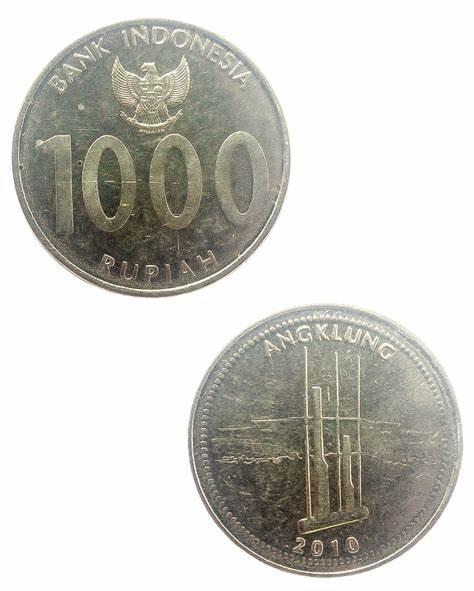coin_1000_e2010: (12, 15, 296, 306), (188, 298, 465, 583)
